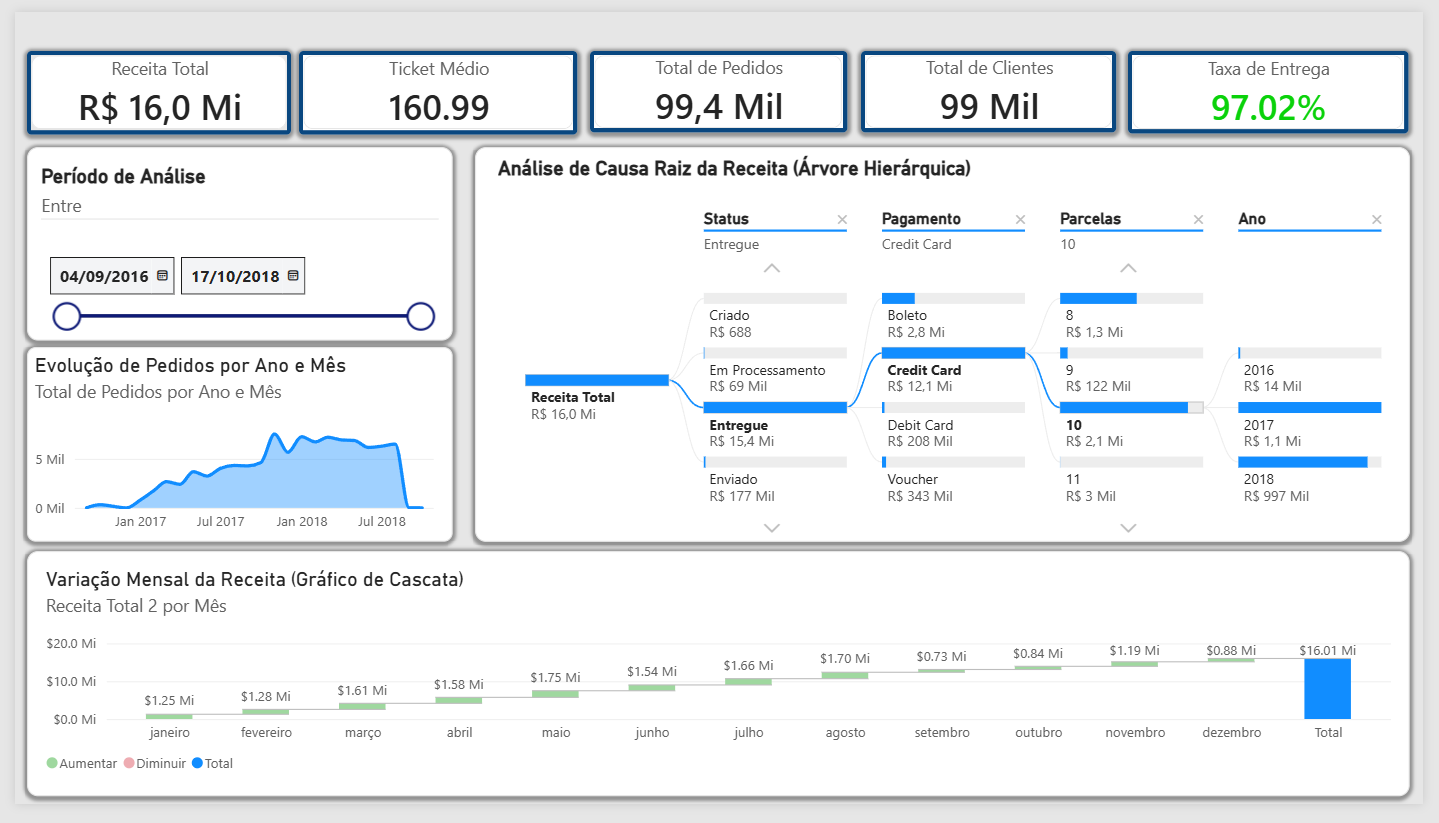

The dashboard page shown, as its layout file describes it:
{"tool":"powerbi","page":{"name":"Visão Exploratória","canvas":[1280,720],"ordinal":2},"visuals":[{"type":"cardVisual","fields":{"Data":["olist_order_payments_dataset.Receita Total"]},"box":[11.3,35.1,240.3,75.8],"z":0},{"type":"cardVisual","fields":{"Data":["olist_orders_dataset.Total de Pedidos"]},"box":[522.6,35.1,233.9,74.2],"z":1000},{"type":"cardVisual","fields":{"Data":["olist_order_payments_dataset.Ticket Médio"]},"box":[258.1,35.1,253.2,75.8],"z":2000},{"type":"cardVisual","fields":{"Data":["olist_orders_dataset.Total de Clientes"]},"box":[769.4,35.1,232.3,74.2],"z":3000},{"type":"cardVisual","fields":{"Data":["olist_orders_dataset.Taxa de Entrega"]},"box":[1012.1,35.1,255,75.3],"z":4000},{"type":"decompositionTreeVisual","title":"Análise de Causa Raiz da Receita (Árvore Hierárquica)","fields":{"Analyze":["olist_order_payments_dataset.Receita Total"],"ExplainBy":["olist_orders_dataset.Status","olist_order_payments_dataset.Tipo de Pagamento","olist_order_payments_dataset.payment_installments","olist_orders_dataset.order_purchase_timestamp.Variation.Hierarquia de datas.Ano"]},"box":[418.2,122.7,850,359.1],"z":5000},{"type":"slicer","title":"Período de Análise","fields":{"Values":["olist_orders_dataset.order_purchase_timestamp"]},"box":[10.9,122.7,387.3,176.4],"z":6000},{"type":"waterfallChart","title":"Variação Mensal da Receita (Gráfico de Cascata)","fields":{"Category":["olist_orders_dataset.order_purchase_timestamp.Variation.Hierarquia de datas.Mês"],"Y":["olist_order_payments_dataset.Receita Total 2"]},"box":[10.9,490,1257.3,222.7],"z":7000},{"type":"areaChart","title":"Evolução de Pedidos por Ano e Mês","fields":{"Category":["olist_orders_dataset.order_purchase_timestamp.Variation.Hierarquia de datas.Ano","olist_orders_dataset.order_purchase_timestamp.Variation.Hierarquia de datas.Mês"],"Y":["olist_orders_dataset.Total de Pedidos 2"]},"box":[10.9,304.5,387.3,177.3],"z":8000}]}

Visuals, with their boxes in screenshot pixels (x1, y1, x2, y2), scaled from the page's 1280x720 canvas onto the 1439x823 screenshot:
cardVisual - olist_order_payments_dataset.Receita Total: x1=13 y1=40 x2=283 y2=127
cardVisual - olist_orders_dataset.Total de Pedidos: x1=588 y1=40 x2=850 y2=125
cardVisual - olist_order_payments_dataset.Ticket Médio: x1=290 y1=40 x2=575 y2=127
cardVisual - olist_orders_dataset.Total de Clientes: x1=865 y1=40 x2=1126 y2=125
cardVisual - olist_orders_dataset.Taxa de Entrega: x1=1138 y1=40 x2=1424 y2=126
"Análise de Causa Raiz da Receita (Árvore Hierárquica)" decompositionTreeVisual: x1=470 y1=140 x2=1426 y2=551
"Período de Análise" slicer: x1=12 y1=140 x2=448 y2=342
"Variação Mensal da Receita (Gráfico de Cascata)" waterfallChart: x1=12 y1=560 x2=1426 y2=815
"Evolução de Pedidos por Ano e Mês" areaChart: x1=12 y1=348 x2=448 y2=551
